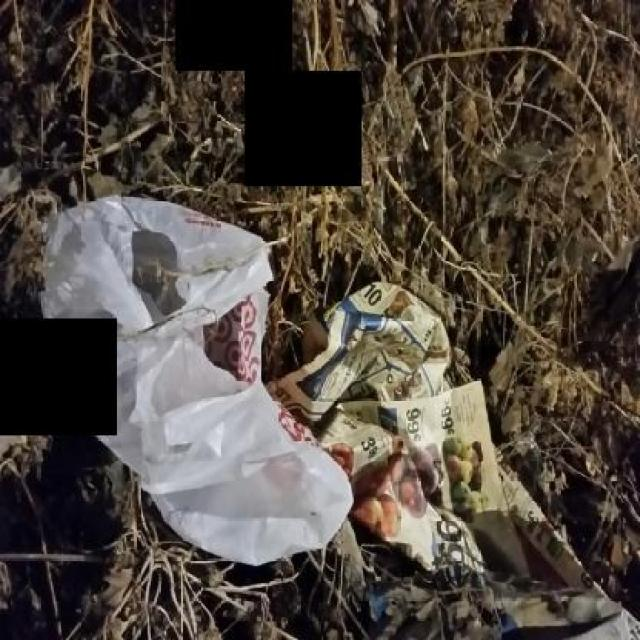plastic bag: (35, 189, 357, 563)
